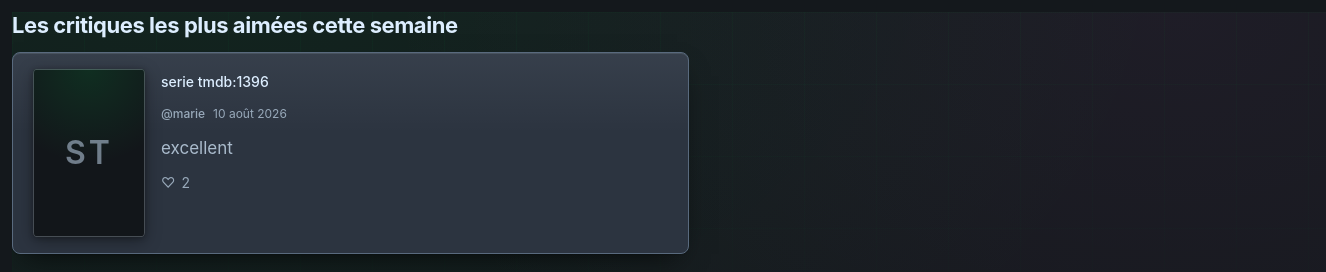
Scenario: la vitrine de l’accueil porte le coeur › 🔴 on peut aimer une critique la ou on la decouvre
Step 1. Click the button "♡ 2" → (176, 183), box [161,171,190,195]
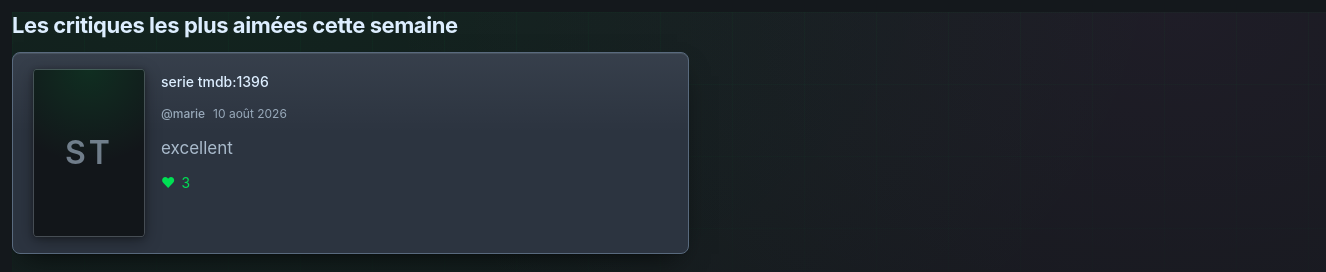
Now the button "♥ 3" is shown, box [161,171,190,195]
